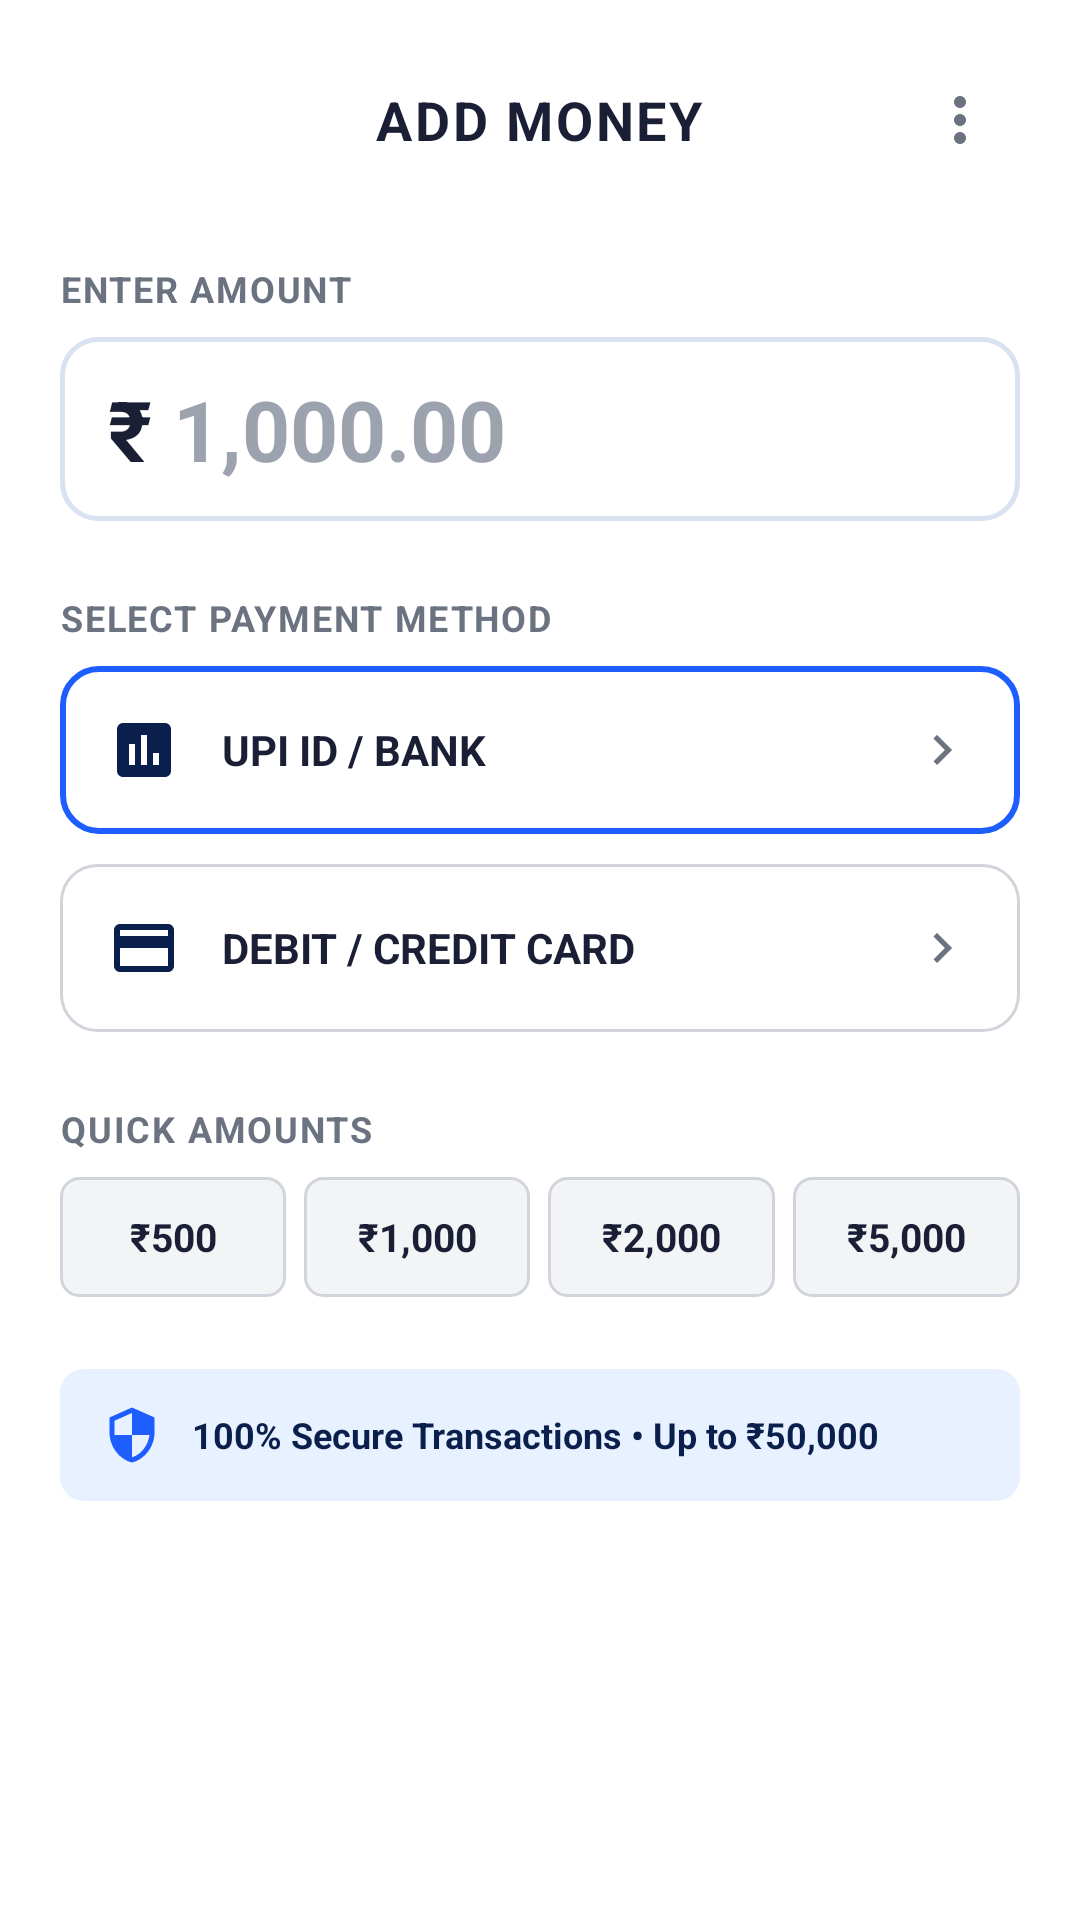

Locate icon controls on the screen. Image size 1080w x 1920h, boxes as region(x1, y1, x2, y2).
Chevron: region(933, 735, 952, 765), region(933, 933, 952, 963)
More options: region(954, 96, 966, 144)
Security shield: region(109, 1407, 155, 1463)
